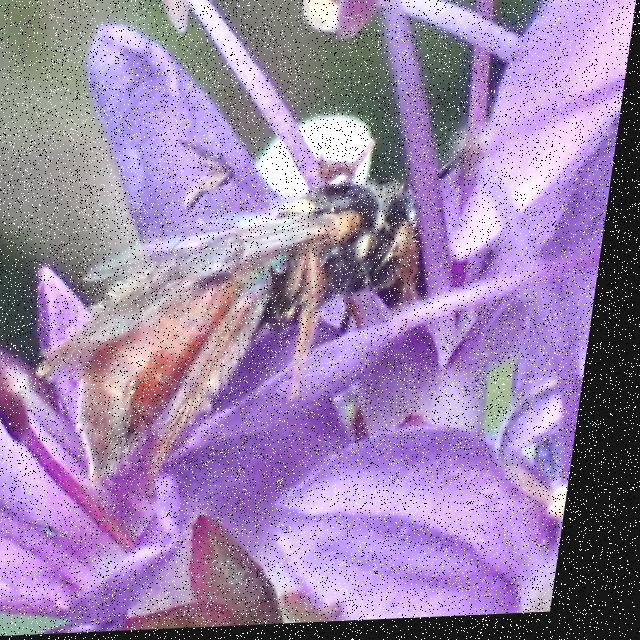Allodapula: (37, 134, 464, 485)
